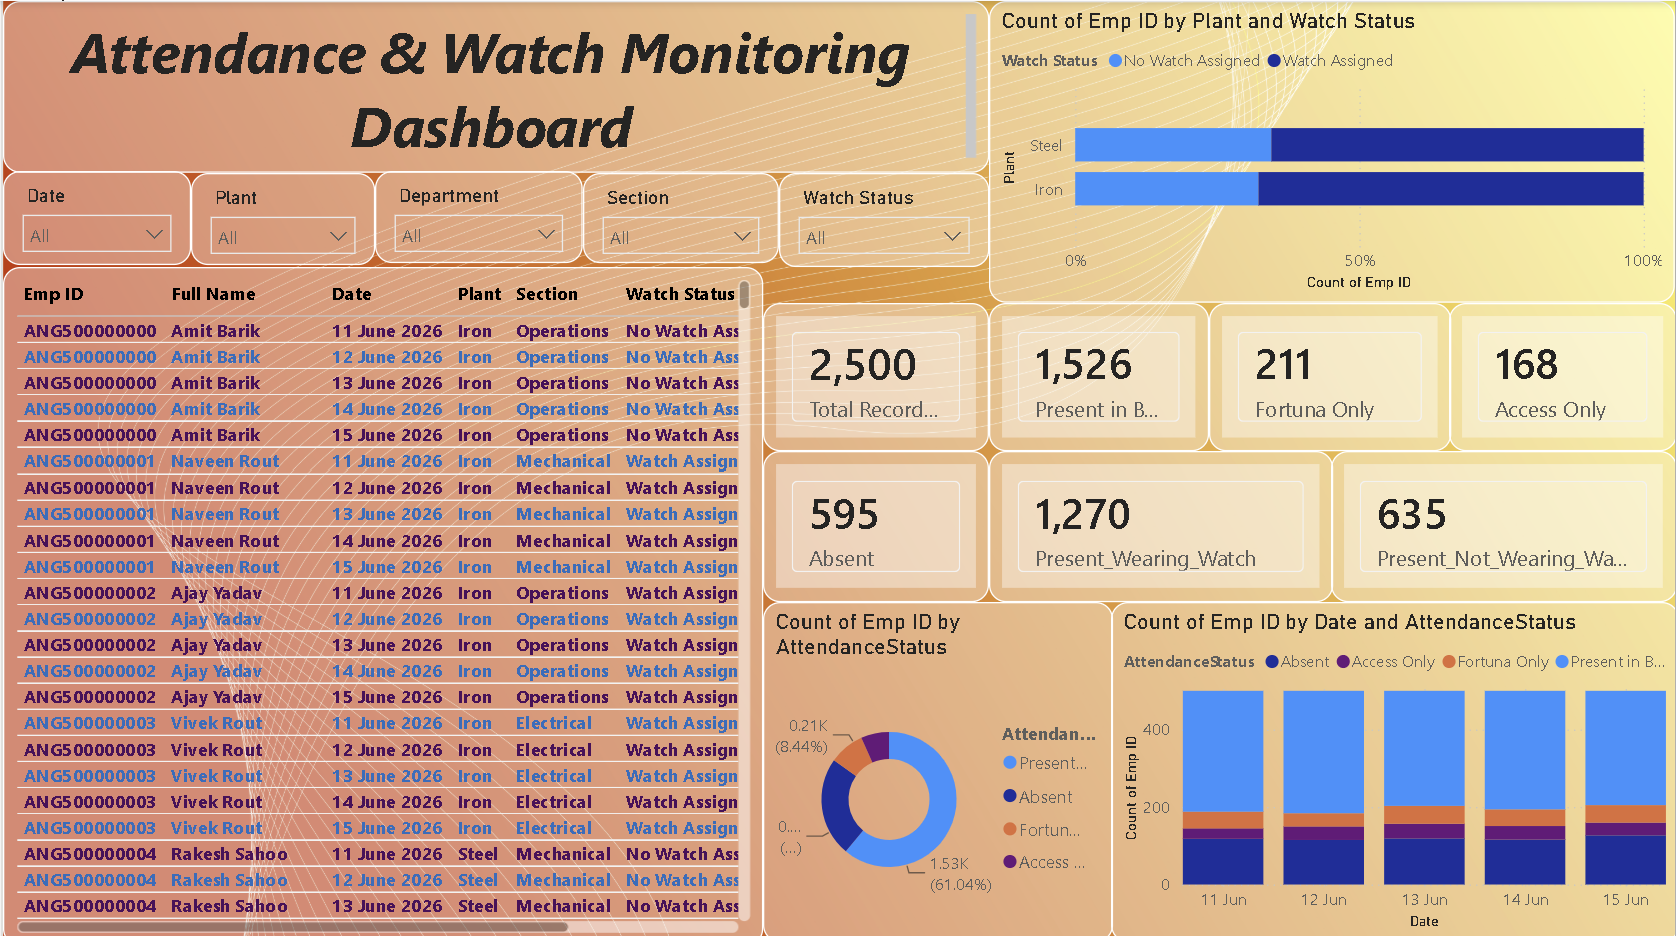

The page's visual inventory and layout, read from the dashboard file:
{"tool":"powerbi","page":{"name":"Attendence_Dashboard","canvas":[1280,720],"ordinal":0},"visuals":[{"type":"cardVisual","fields":{"Data":["EmployeeUniverse_new.Total Records"]},"box":[581.8,231.2,173,113.3],"z":0},{"type":"cardVisual","fields":{"Data":["EmployeeUniverse_new.Present in Both"]},"box":[754.8,231.2,168.4,113.3],"z":1000},{"type":"cardVisual","fields":{"Data":["EmployeeUniverse_new.Fortuna Only"]},"box":[923.3,231.2,185.3,113.3],"z":2000},{"type":"cardVisual","fields":{"Data":["EmployeeUniverse_new.Access Only"]},"box":[1107,231.2,174.5,113.3],"z":3000},{"type":"cardVisual","fields":{"Data":["EmployeeUniverse_new.Absent"]},"box":[581.8,344.5,173,114.8],"z":4000},{"type":"slicer","fields":{"Values":["EmployeeUniverse_new.Date"]},"box":[0,130.1,143.9,72],"z":5000},{"type":"slicer","fields":{"Values":["EmployeeUniverse_new.Plant"]},"box":[143.9,131.7,140.9,70.4],"z":6000},{"type":"slicer","fields":{"Values":["EmployeeUniverse_new.Department"]},"box":[284.8,130.1,159.2,70.4],"z":7000},{"type":"slicer","fields":{"Values":["EmployeeUniverse_new.Section"]},"box":[444,131.7,150,68.9],"z":8000},{"type":"donutChart","fields":{"Category":["EmployeeUniverse_new.AttendanceStatus"],"Y":["CountNonNull(EmployeeUniverse_new.Emp ID)"]},"box":[581.8,459.3,267.9,260.3],"z":9000},{"type":"columnChart","fields":{"Category":["EmployeeUniverse_new.Date"],"Series":["EmployeeUniverse_new.AttendanceStatus"],"Y":["CountNonNull(EmployeeUniverse_new.Emp ID)"]},"box":[848.2,459.3,434.8,260.3],"z":10000},{"type":"tableEx","fields":{"Values":["EmployeeUniverse_new.Emp ID","EmployeeUniverse_new.Full Name","EmployeeUniverse_new.Date","EmployeeUniverse_new.Plant","EmployeeUniverse_new.Section","EmployeeUniverse_new.Watch Status","EmployeeUniverse_new.AttendanceStatus"]},"box":[0,203,581.8,519],"z":11000},{"type":"slicer","fields":{"Values":["EmployeeUniverse_new.Watch Status"]},"box":[594.1,131.7,160.8,72],"z":12000},{"type":"cardVisual","fields":{"Data":["EmployeeUniverse_new.Present_Wearing_Watch"]},"box":[754.8,344.5,263.3,114.8],"z":13000},{"type":"cardVisual","fields":{"Data":["EmployeeUniverse_new.Present_Not_Wearing_Watch"]},"box":[1016.7,344.5,264.9,114.8],"z":14000},{"type":"hundredPercentStackedBarChart","fields":{"Category":["EmployeeUniverse_new.Plant"],"Series":["EmployeeUniverse_new.Watch Status"],"Y":["CountNonNull(EmployeeUniverse_new.Emp ID)"]},"box":[754.8,0,525.2,231.2],"z":15000},{"type":"textbox","box":[0,0,754.8,131.7],"z":16000}]}

Visuals, with their boxes in screenshot pixels (x1, y1, x2, y2), scaled from the page's 1280x720 canvas onto the 1676x936 screenshot:
cardVisual - EmployeeUniverse_new.Total Records: (762, 301, 988, 448)
cardVisual - EmployeeUniverse_new.Present in Both: (988, 301, 1209, 448)
cardVisual - EmployeeUniverse_new.Fortuna Only: (1209, 301, 1452, 448)
cardVisual - EmployeeUniverse_new.Access Only: (1449, 301, 1675, 448)
cardVisual - EmployeeUniverse_new.Absent: (762, 448, 988, 597)
slicer - EmployeeUniverse_new.Date: (0, 169, 188, 263)
slicer - EmployeeUniverse_new.Plant: (188, 171, 373, 263)
slicer - EmployeeUniverse_new.Department: (373, 169, 581, 261)
slicer - EmployeeUniverse_new.Section: (581, 171, 778, 261)
donutChart - EmployeeUniverse_new.AttendanceStatus x CountNonNull(EmployeeUniverse_new.Emp ID): (762, 597, 1113, 935)
columnChart - EmployeeUniverse_new.Date x EmployeeUniverse_new.AttendanceStatus: (1111, 597, 1675, 935)
tableEx - EmployeeUniverse_new.Emp ID x EmployeeUniverse_new.Full Name: (0, 264, 762, 935)
slicer - EmployeeUniverse_new.Watch Status: (778, 171, 988, 265)
cardVisual - EmployeeUniverse_new.Present_Wearing_Watch: (988, 448, 1333, 597)
cardVisual - EmployeeUniverse_new.Present_Not_Wearing_Watch: (1331, 448, 1675, 597)
hundredPercentStackedBarChart - EmployeeUniverse_new.Plant x EmployeeUniverse_new.Watch Status: (988, 0, 1675, 301)
textbox: (0, 0, 988, 171)
